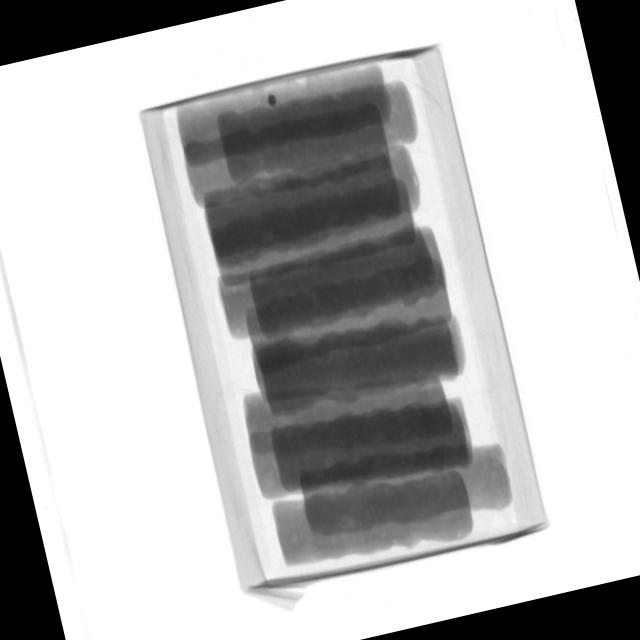ym: (267, 94, 279, 109)
